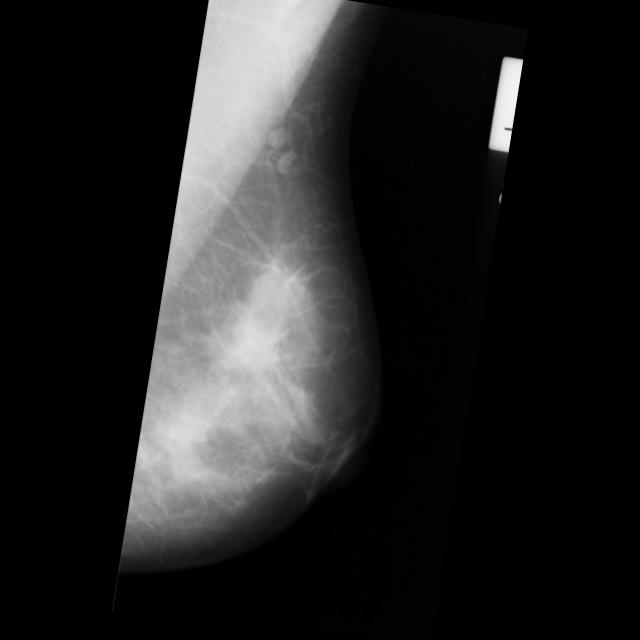ASYM: (42, 0, 285, 362)
